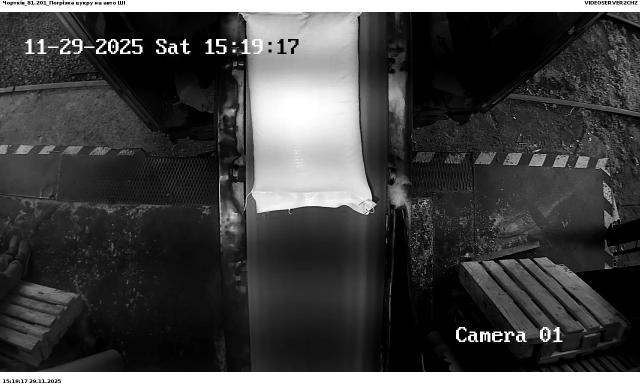bag: (241, 11, 376, 214)
